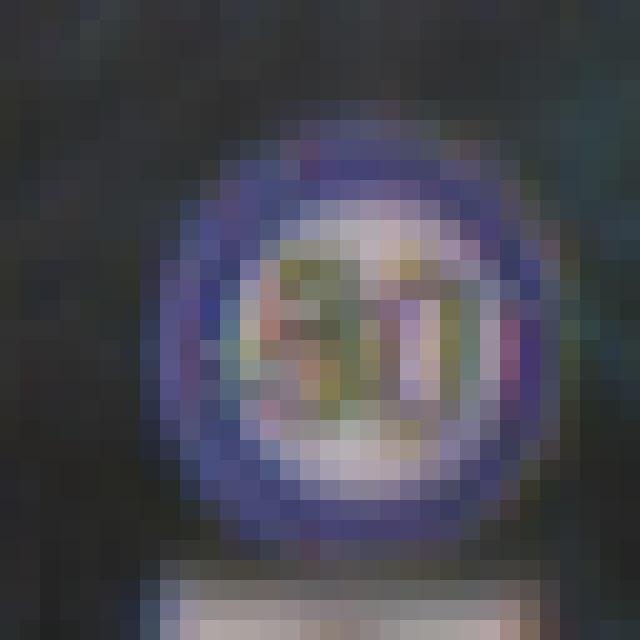SPEED-LIMIT-80: (137, 141, 570, 552)
